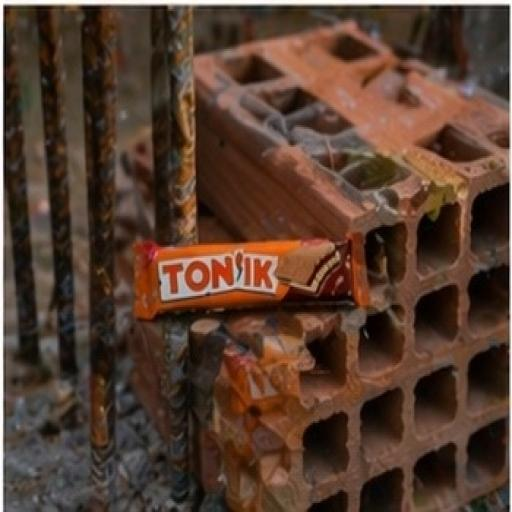tonik: (80, 121, 478, 388)
